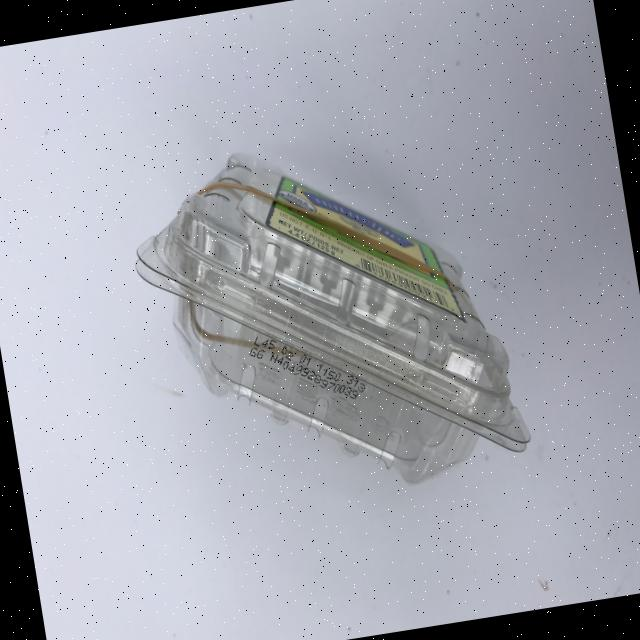plastic: (120, 113, 536, 522)
